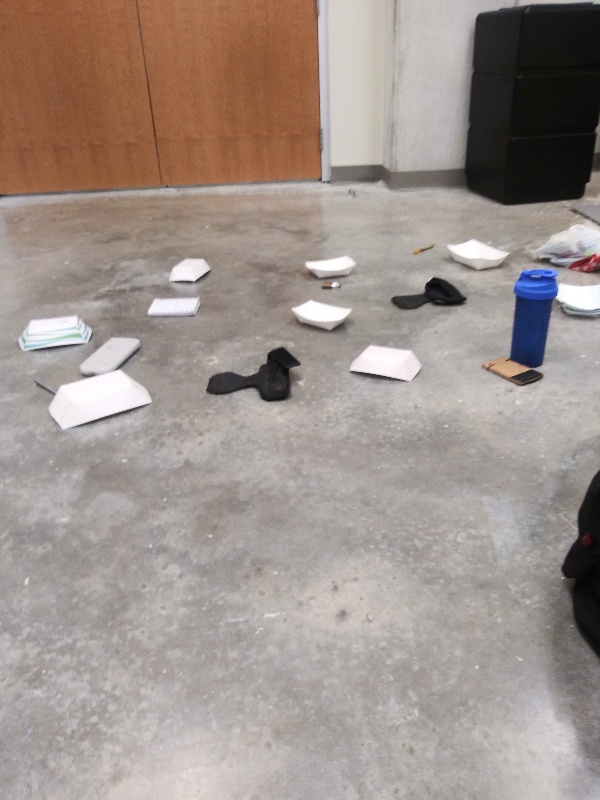plate: (45, 365, 156, 433), (343, 339, 427, 387), (14, 313, 97, 354), (442, 234, 516, 272), (286, 297, 356, 334), (555, 277, 600, 322), (297, 252, 360, 284), (162, 254, 215, 287)
